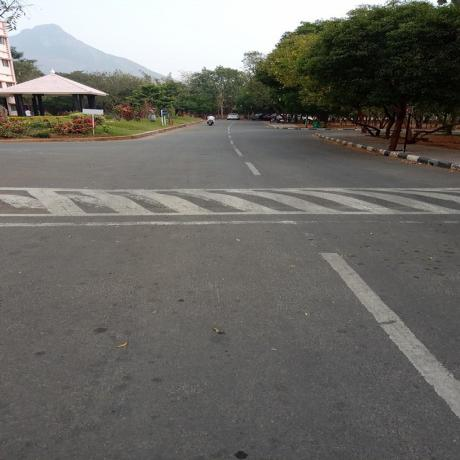Speed Bump: (0, 186, 459, 228)
